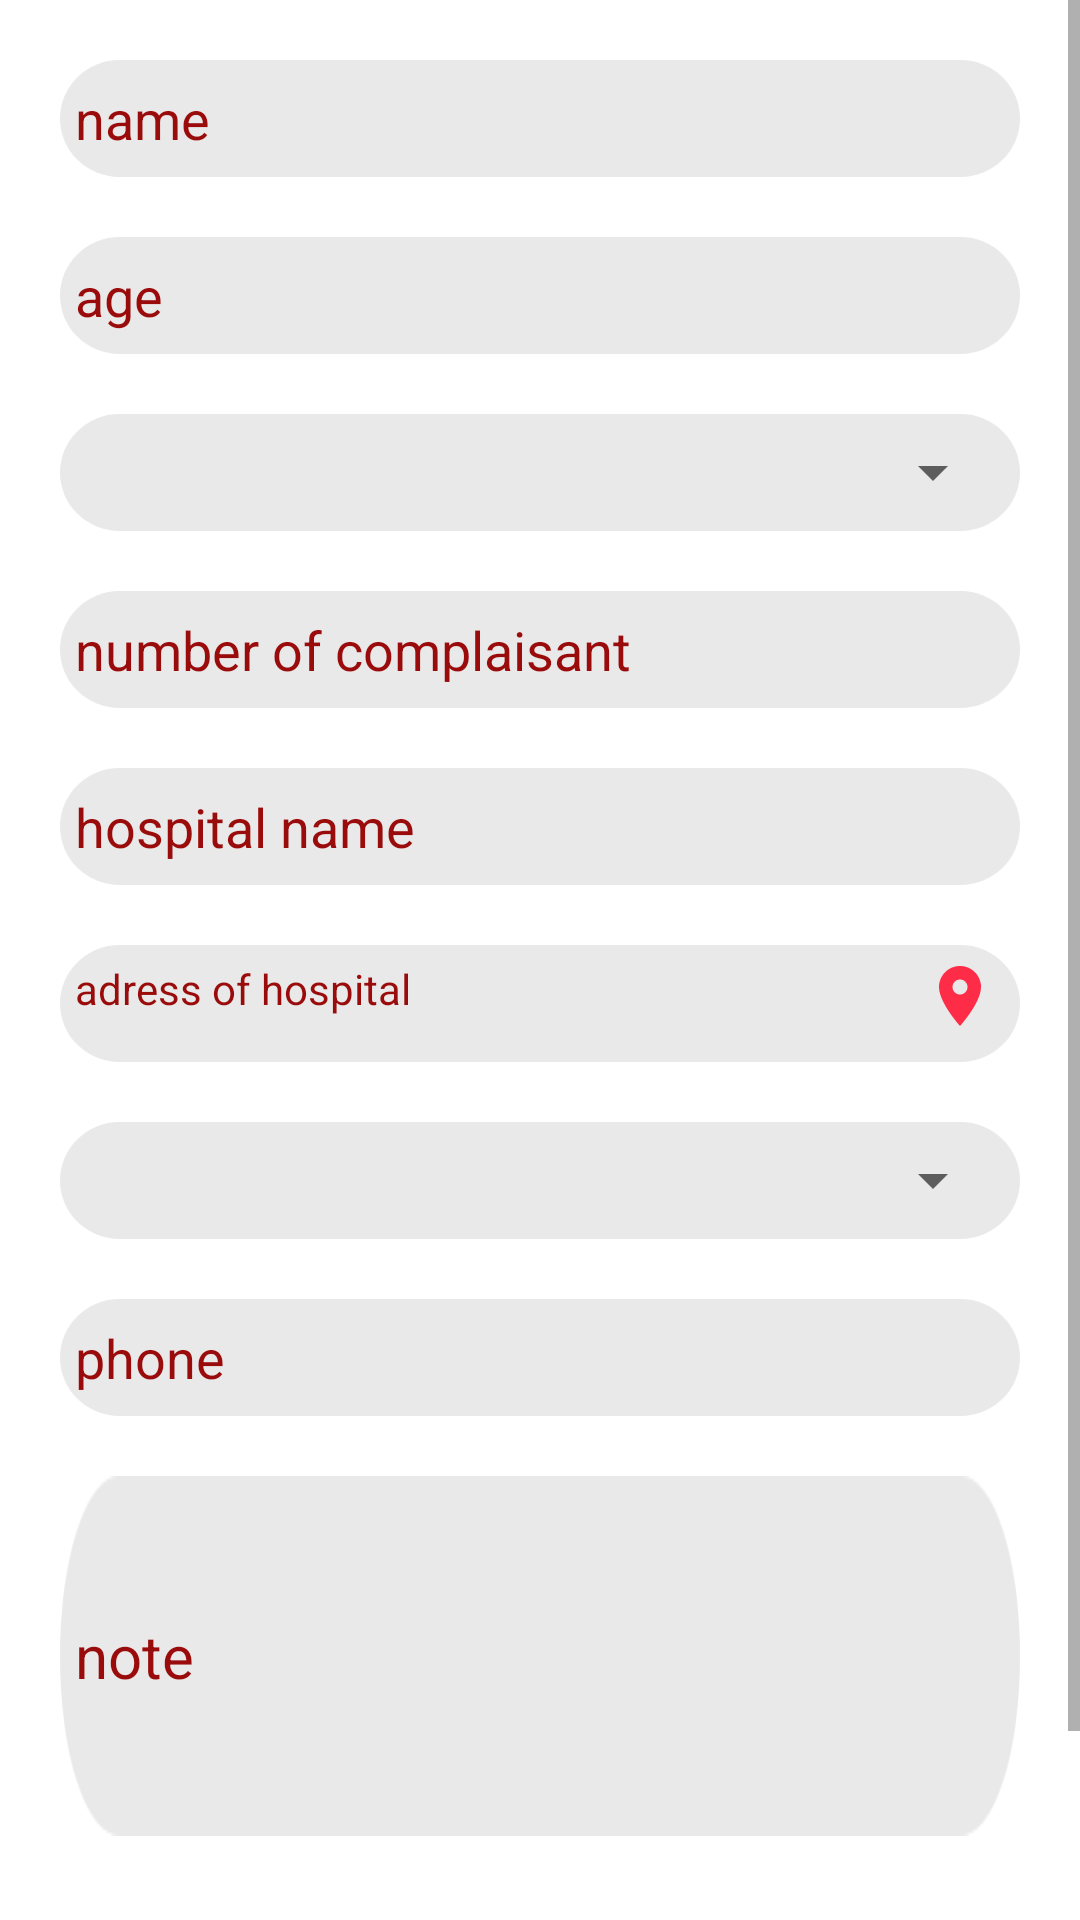

Point at icon controls on the screen. Image size 1080*1920, points as point (x, y).
location on: point (960, 996)
